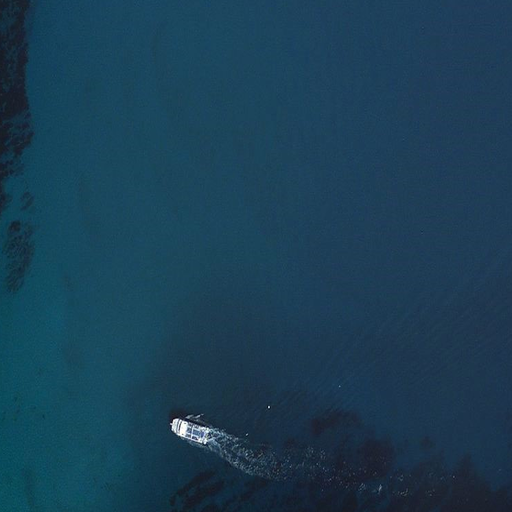ship: (168, 415, 212, 449)
